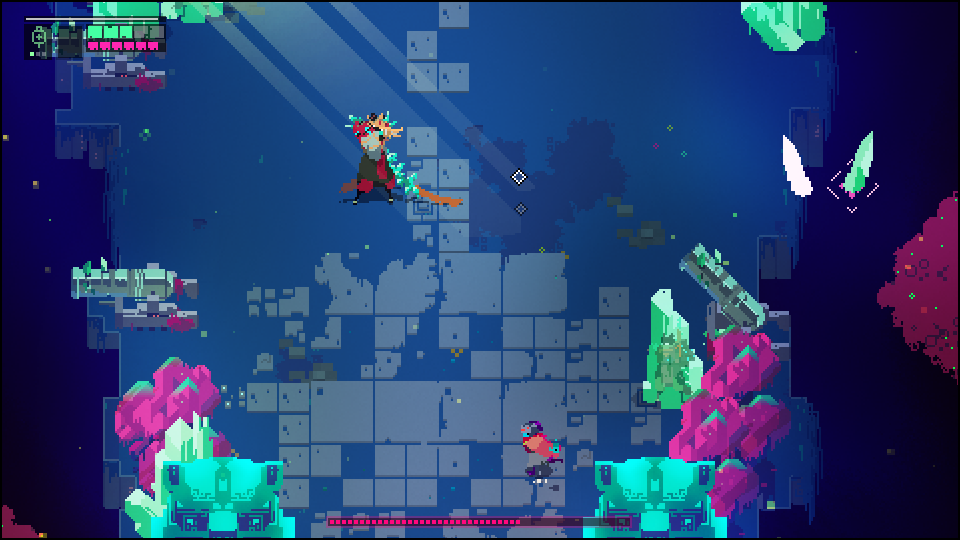hanged_crys: (839, 129, 875, 198), (779, 130, 814, 196)
hanged_man: (338, 106, 424, 211)
player: (519, 418, 562, 472)
